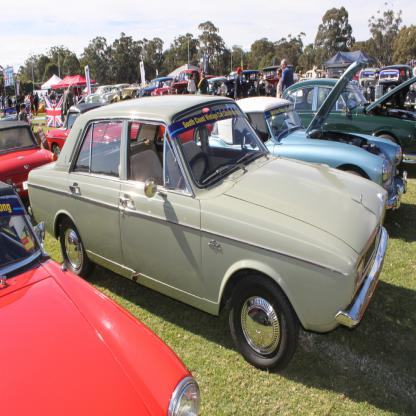Car: (0, 57, 416, 416)
